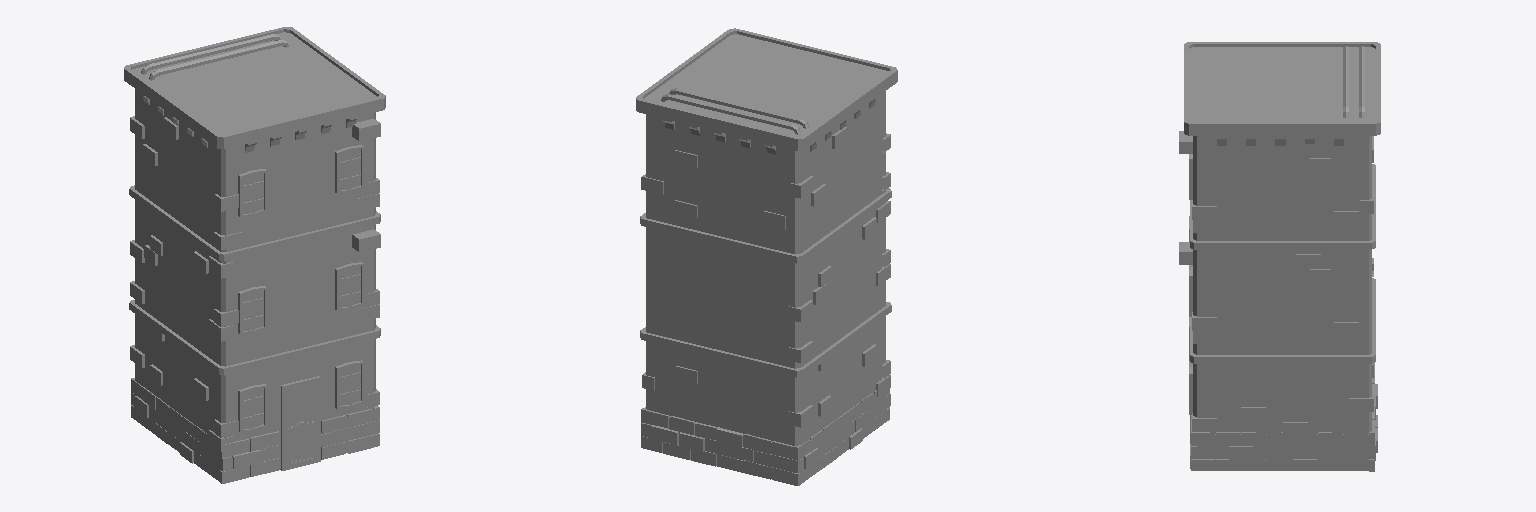
File: 3Story_Small.obj
The picture shows the model from 3 angles: view 1: azimuth 30°, elevation 25°; view 2: azimuth 150°, elevation 25°; view 3: azimuth 270°, elevation 25°; orthographic projection.
Visible parts, largest first — view 1: 3Story_Small_Cube.145; view 2: 3Story_Small_Cube.145; view 3: 3Story_Small_Cube.145.
Part boxes in pixels (left/top/right/bottom): 3Story_Small_Cube.145: left=124, top=27, right=385, bottom=483; 3Story_Small_Cube.145: left=636, top=28, right=897, bottom=485; 3Story_Small_Cube.145: left=1179, top=42, right=1380, bottom=471.
Size of the model in its own units: 1.91 by 3.85 by 1.97.